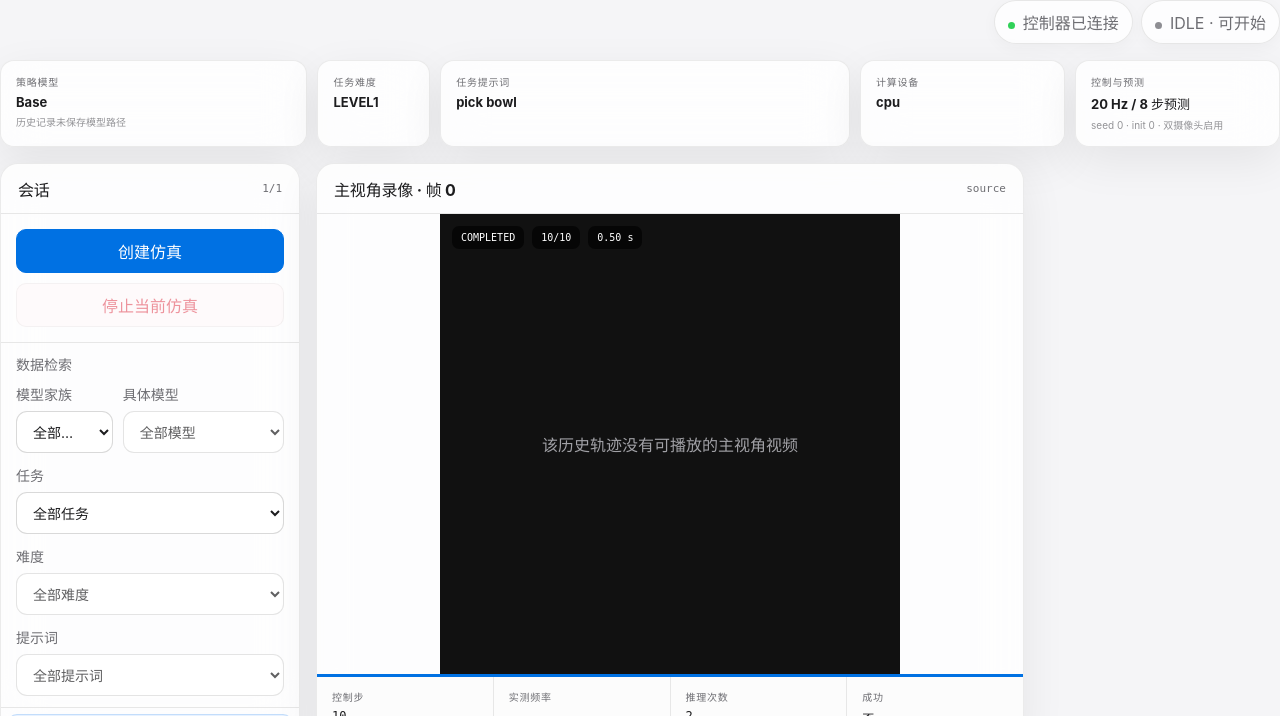
Test: collection controller integration › uses variant execution defaults when switching without changing training horizon
The width and height of the screenshot is (1280, 716).
Click the button "创建仿真".
click(150, 251)  # box [16, 229, 284, 273]
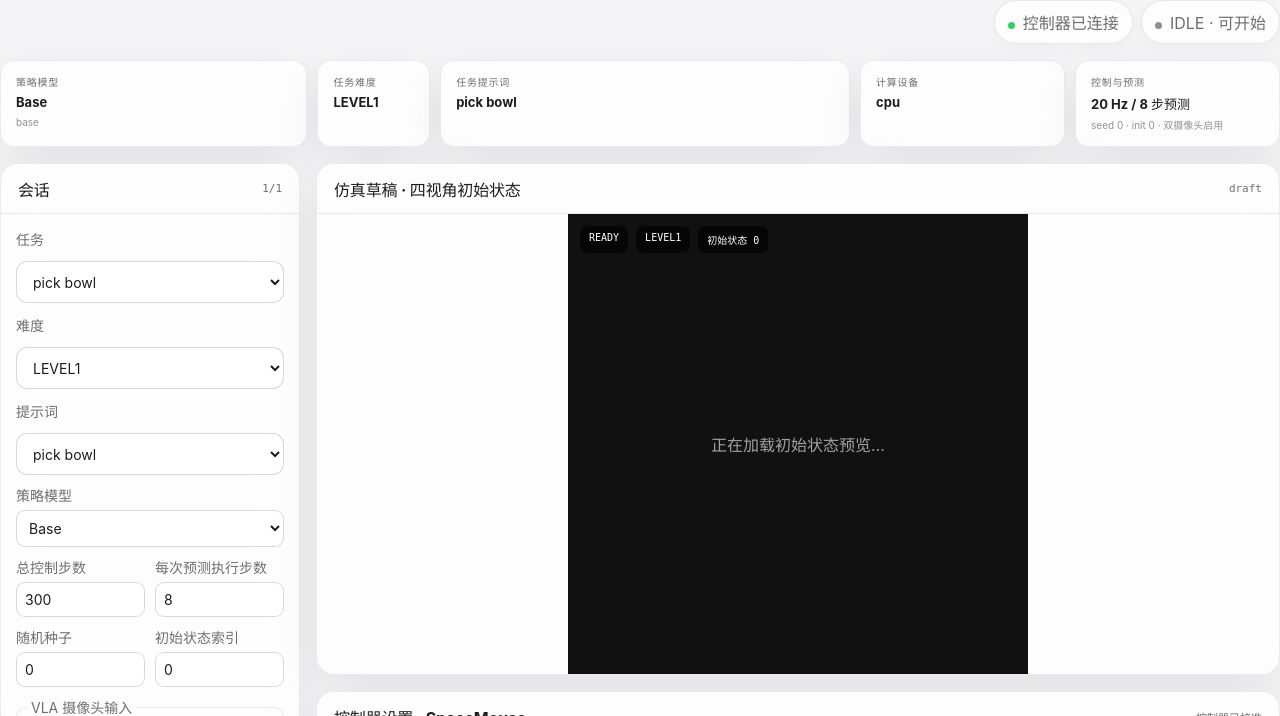
Select "Pi policy" in the dropdown labelled "策略模型" at [150, 528], box [16, 510, 284, 547]
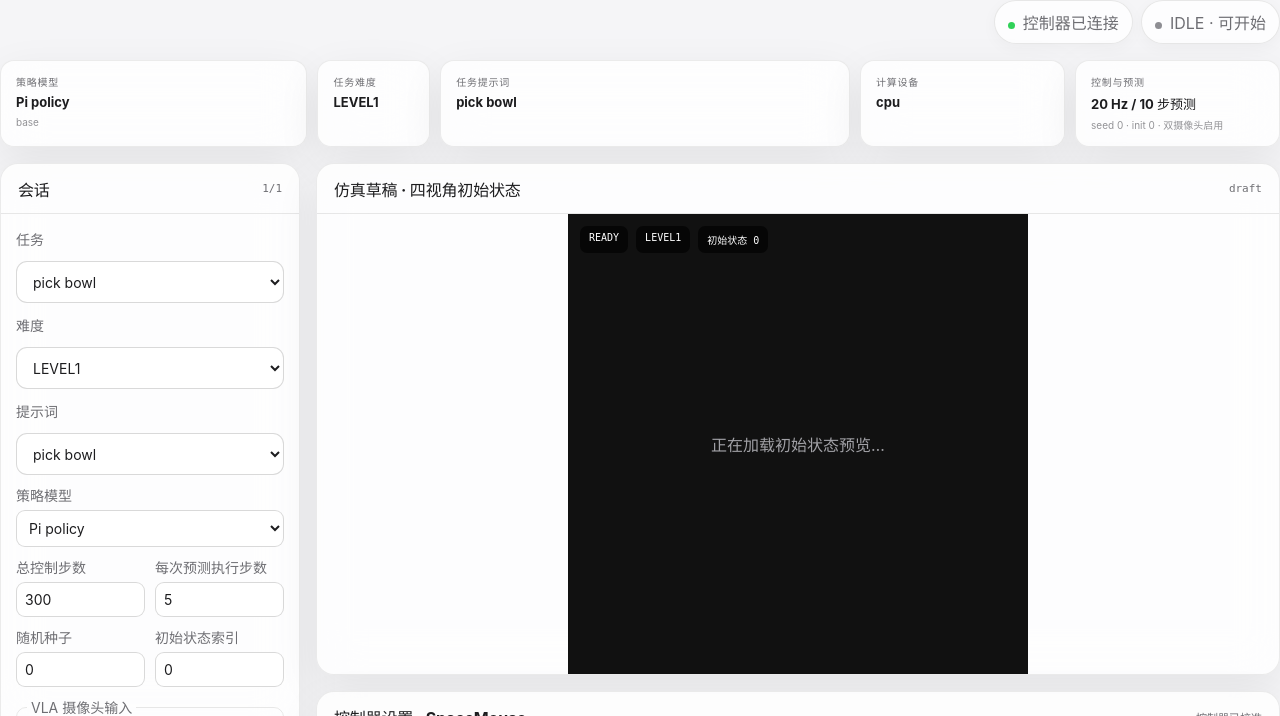
Check: the number field labelled "每次预测执行步数" holds "5"
Check: the text "20 Hz / 10 步预测" is shown, box [1091, 96, 1196, 112]
Replace the text in the number field labelled "每次预测执行步数" with "10" at [220, 600], box [155, 582, 284, 617]
Replace the text in the number field labelled "随机种子" with "7" at [80, 670], box [16, 652, 145, 687]
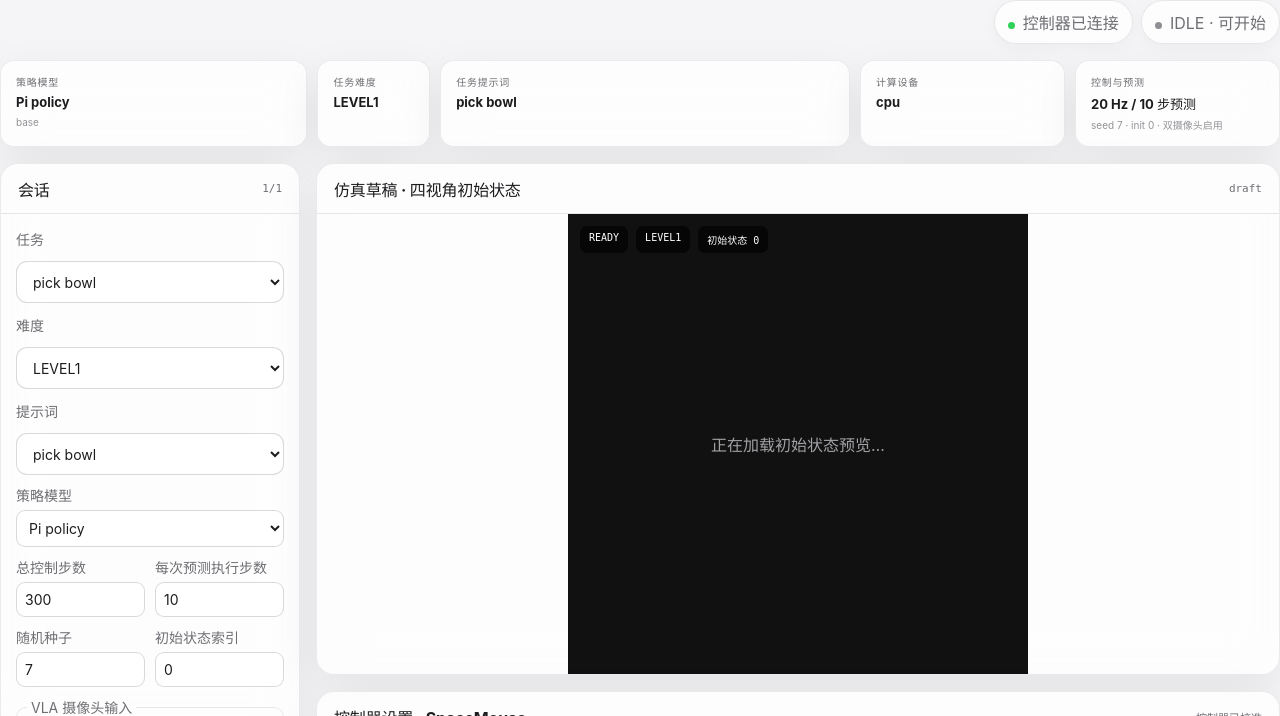
Select "Pi LIBERO-X" in the dropdown labelled "策略模型" at [150, 528], box [16, 510, 284, 547]
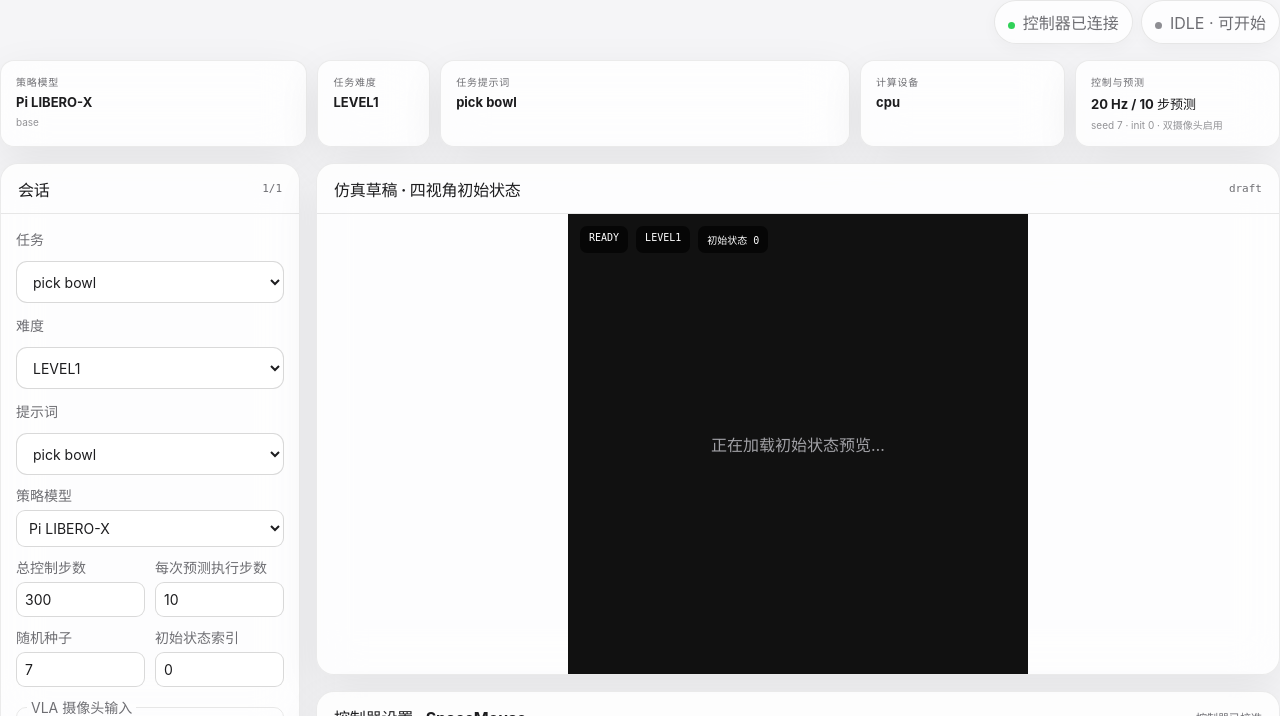
Select "Pi policy" in the dropdown labelled "策略模型" at [150, 528], box [16, 510, 284, 547]
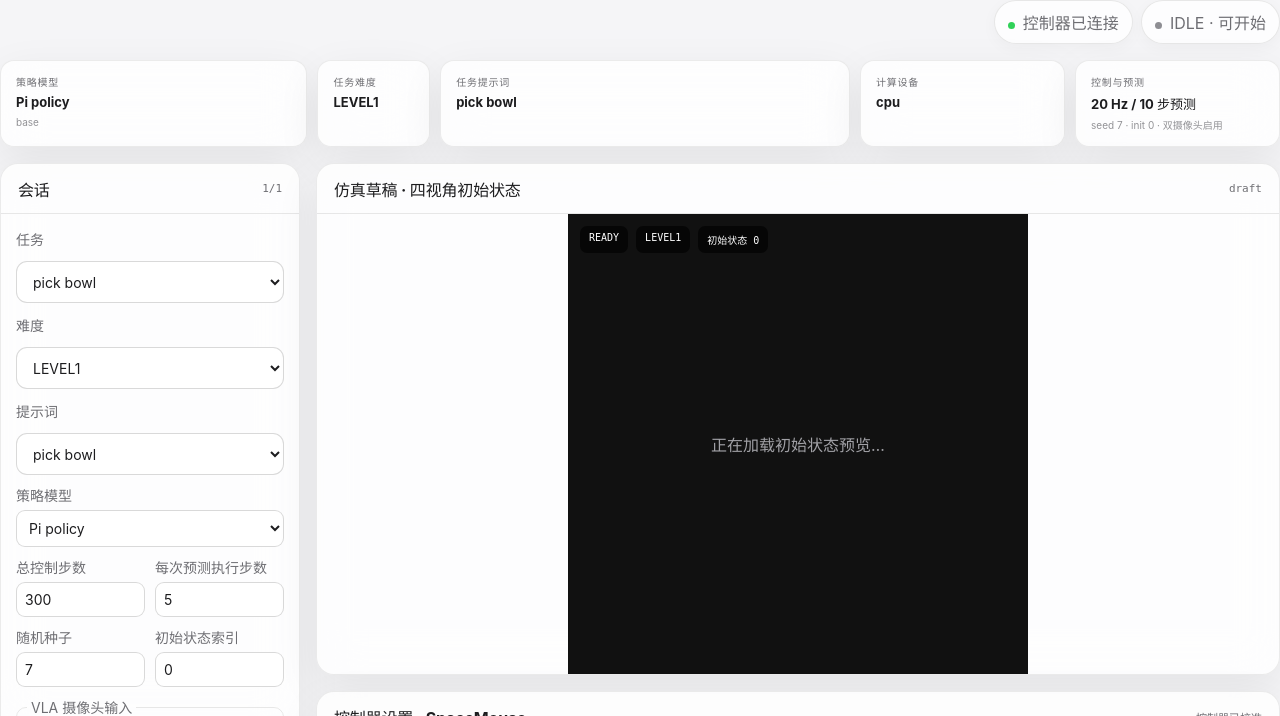
Check: the number field labelled "每次预测执行步数" holds "5", box [155, 582, 284, 617]
Select "Base" in the dropdown labelled "策略模型" at [150, 528], box [16, 510, 284, 547]
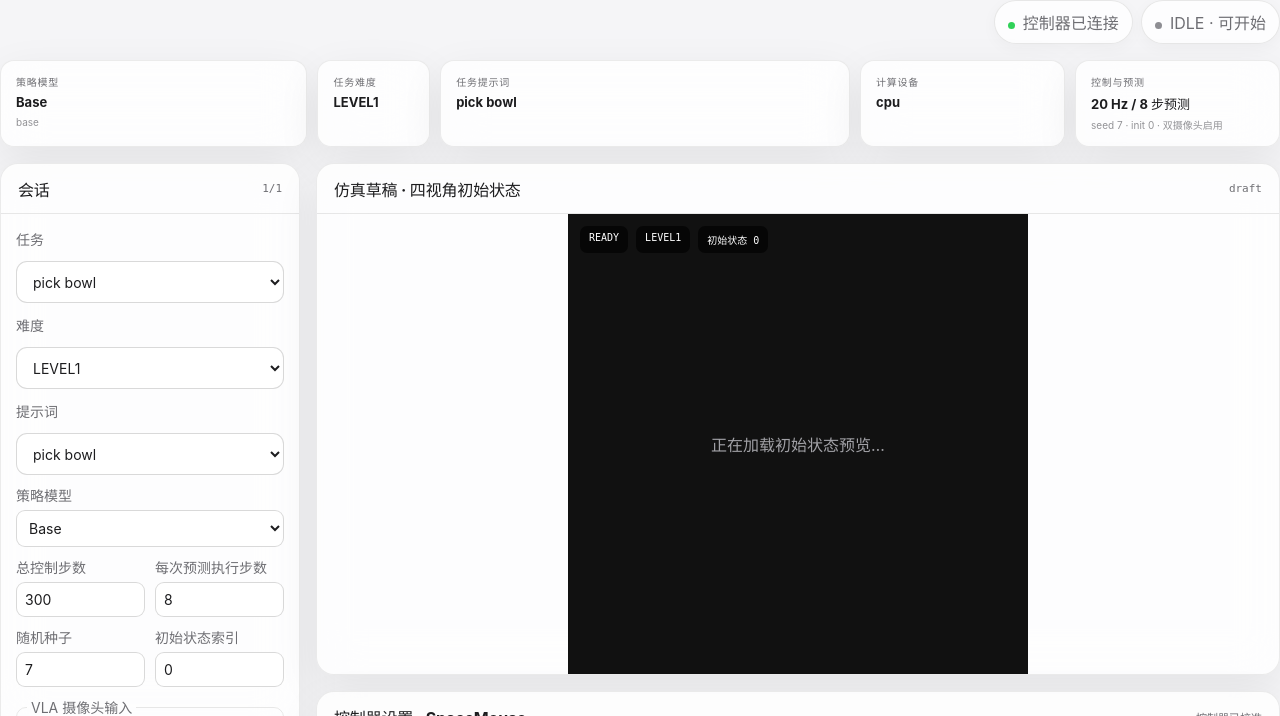
Check: the number field labelled "每次预测执行步数" holds "8", box [155, 582, 284, 617]
